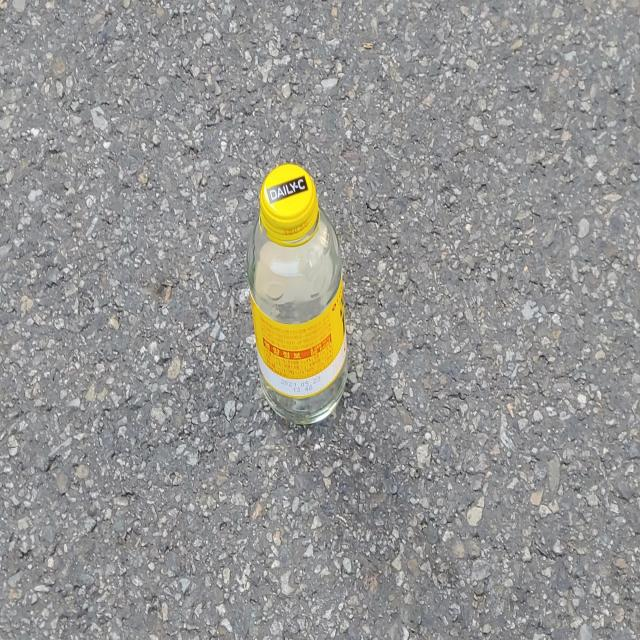glass: (248, 164, 348, 424)
